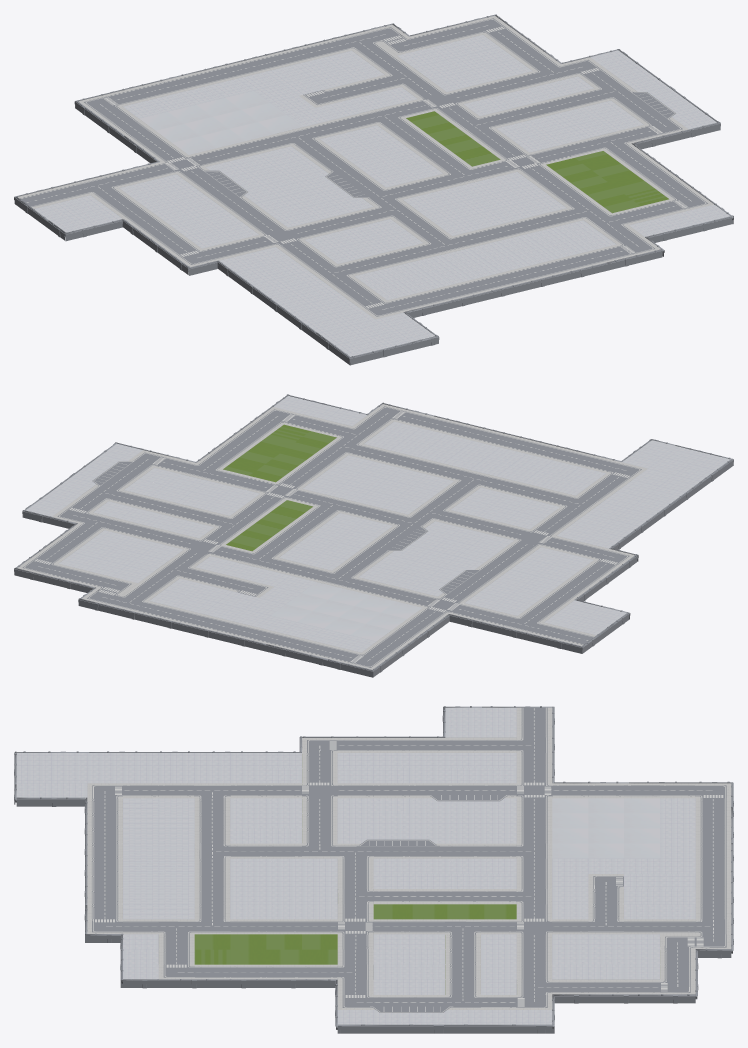
The model's file is dongjing_dibiao.fbx.
3 renders of one model, top to bottom at view 1: azimuth 30°, elevation 25°; view 2: azimuth 150°, elevation 25°; view 3: azimuth 270°, elevation 25°, orthographic. The views are drawn at different scales.
Parts seen in each view (by area): view 1: dongjing, banmaxian.001, lu.002; view 2: dongjing, banmaxian.001, lu.002; view 3: dongjing, banmaxian.001, lu.002, bing_1.001.
Part boxes in pixels (left/top/right/bottom): dongjing: left=14, top=14, right=733, bottom=365; banmaxian.001: left=18, top=16, right=713, bottom=319; lu.002: left=103, top=26, right=687, bottom=308; dongjing: left=14, top=394, right=733, bottom=677; banmaxian.001: left=17, top=404, right=647, bottom=669; lu.002: left=34, top=411, right=629, bottom=662; dongjing: left=14, top=706, right=733, bottom=1033; banmaxian.001: left=87, top=707, right=731, bottom=1009; lu.002: left=95, top=741, right=723, bottom=1006; bing_1.001: left=302, top=783, right=337, bottom=798.
Size of the model in its own units: 21139 by 272 by 20118.
